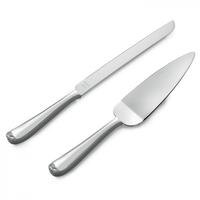knife: (2, 15, 199, 183)
